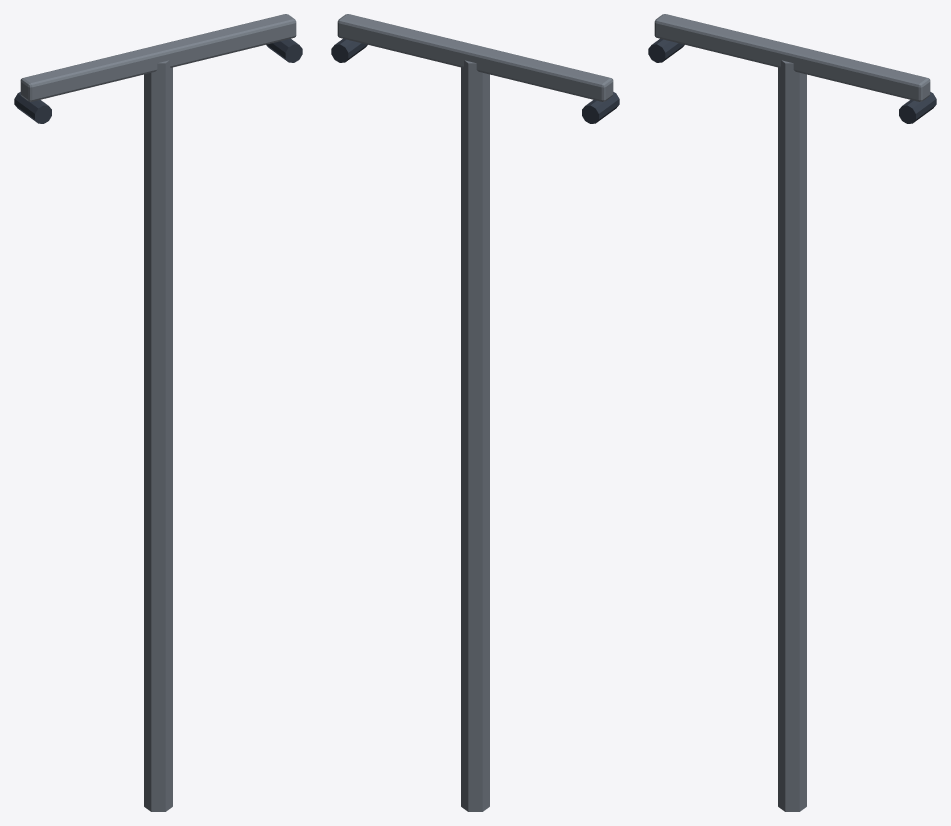
File: Ski_LiftPylon.fbx
The picture shows the model from 3 angles, left to right: view 1: azimuth 30°, elevation 25°; view 2: azimuth 150°, elevation 25°; view 3: azimuth 330°, elevation 25°; orthographic projection.
Visible parts, largest first — view 1: LiftPylon; view 2: LiftPylon; view 3: LiftPylon.
Boxes of the visible parts, box(x1,y1,x2,y2) form: LiftPylon: box(14, 14, 302, 811); LiftPylon: box(331, 14, 619, 811); LiftPylon: box(648, 14, 936, 811).
Bounding box in the file's own units: 3 × 8.1 × 0.4.
